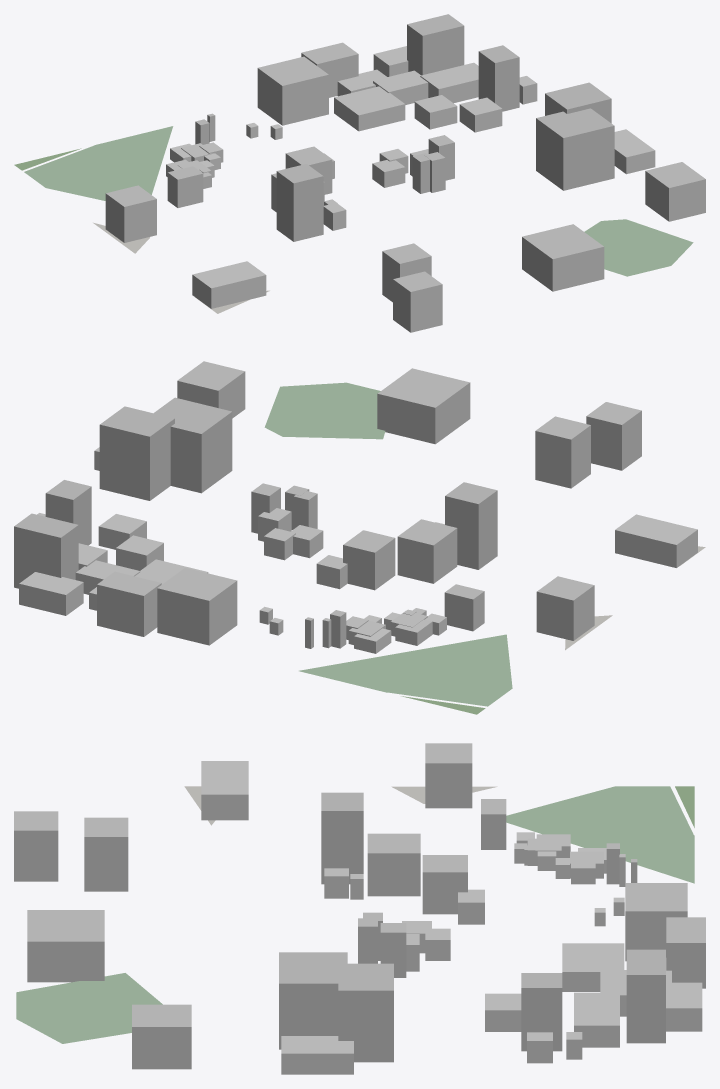
The model's file is 131_94_mid.glb.
3 views of the same model, one above another, from view 1: azimuth 30°, elevation 25°; view 2: azimuth 150°, elevation 25°; view 3: azimuth 270°, elevation 25° (orthographic). The views are drawn at different scales.
Size of the model in its own units: 508 by 60.51 by 510.
